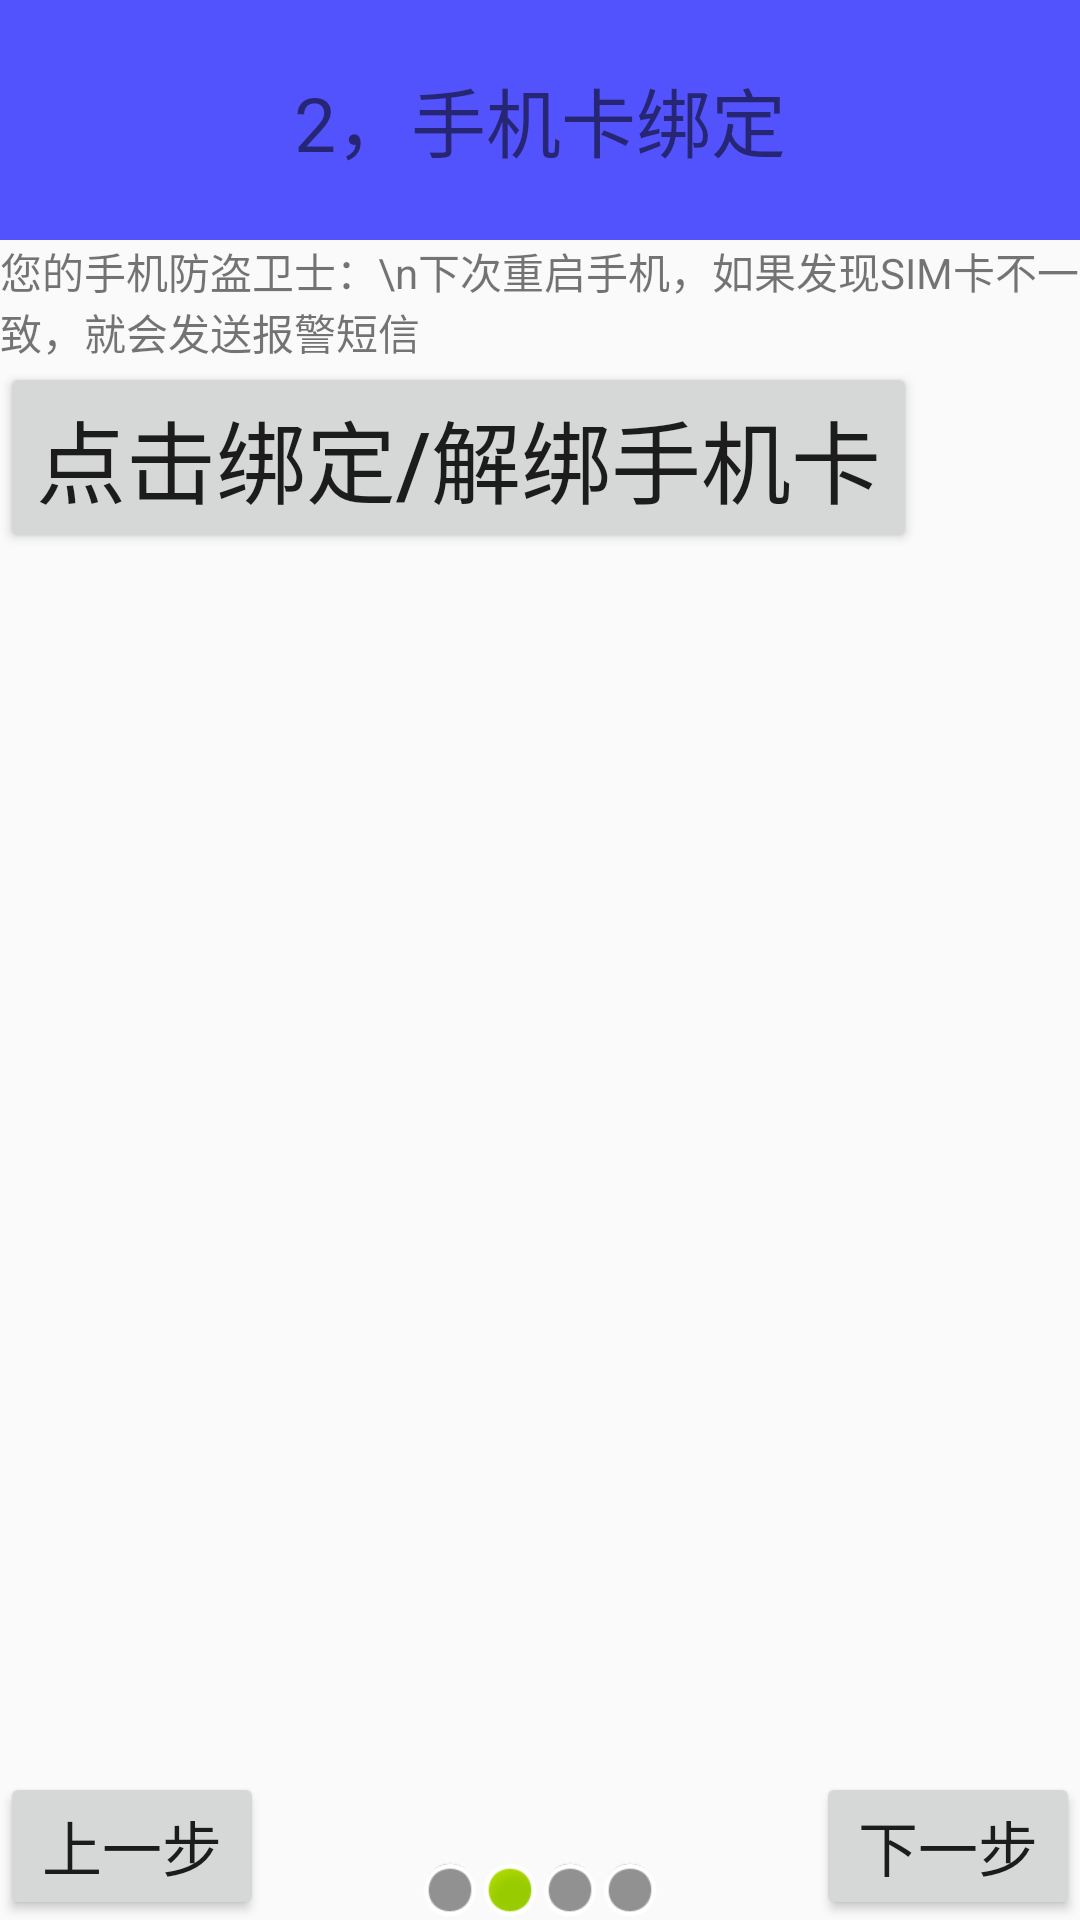

Icon click points for this 1080*1920 phone screenshot, format point (x, y):
presence invisible: point (450, 1888), point (570, 1888), point (630, 1888)
presence online: point (510, 1890)
